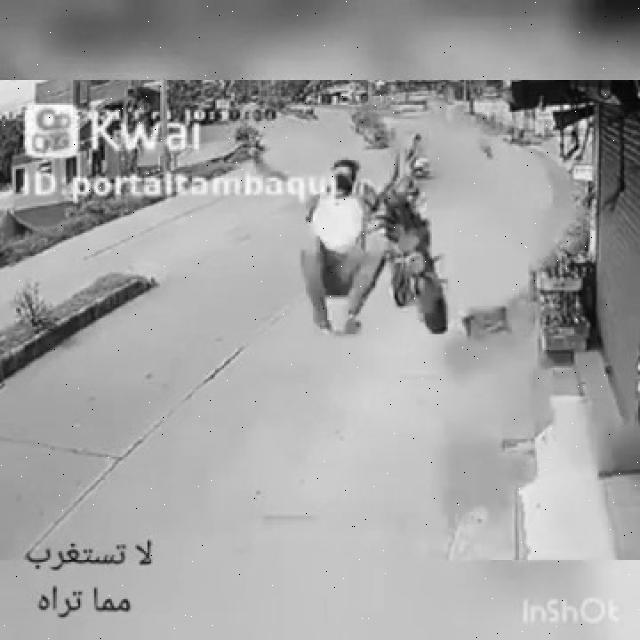accident: (287, 158, 470, 343)
